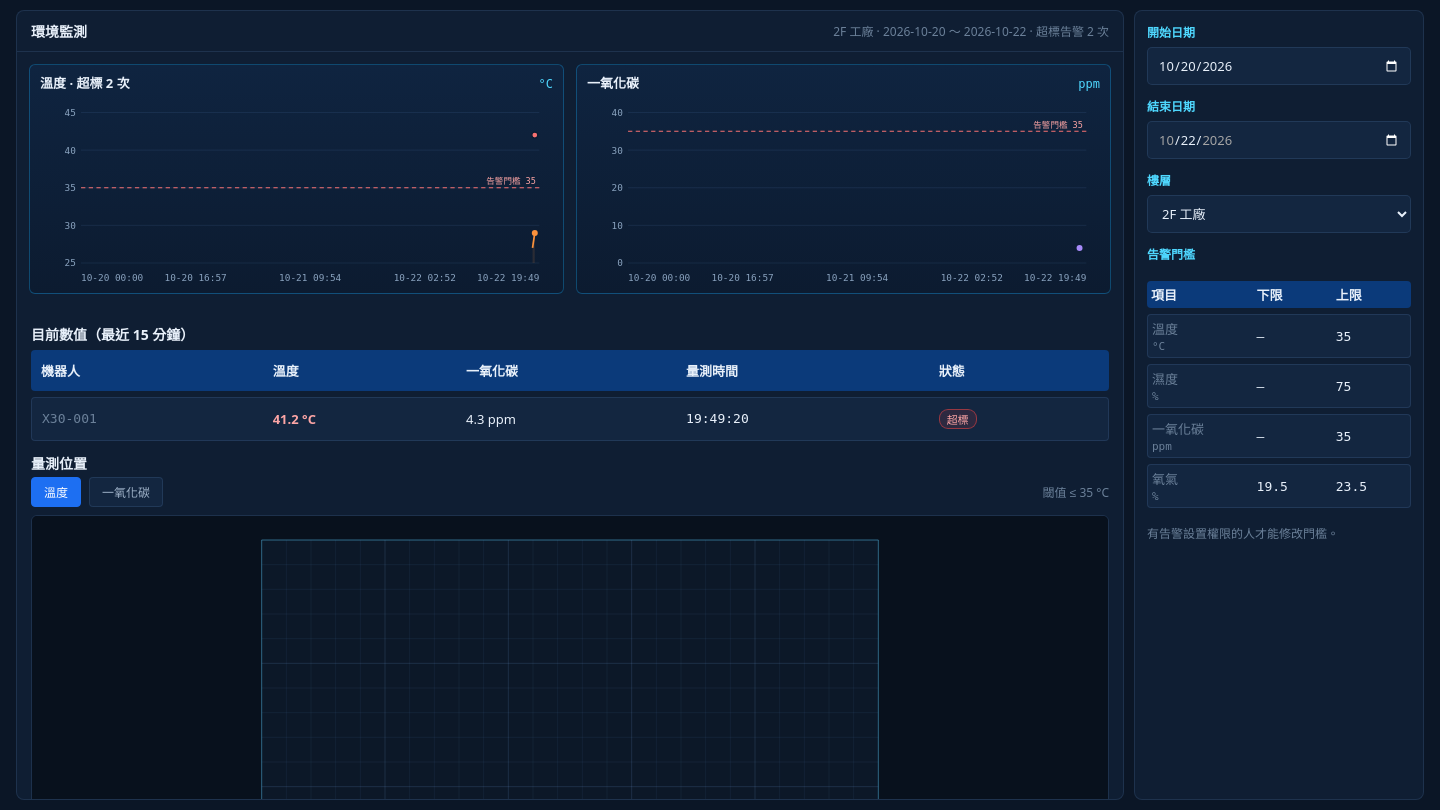
Test case: 環境監測（T-41） › 超過 31 天不查詢
Expected: the text "X30-001" is shown, [31,397,263,441]
Step 1. Type "2026-01-01" into the date field labelled "開始日期" → (1279, 66), box [1147,47,1411,85]
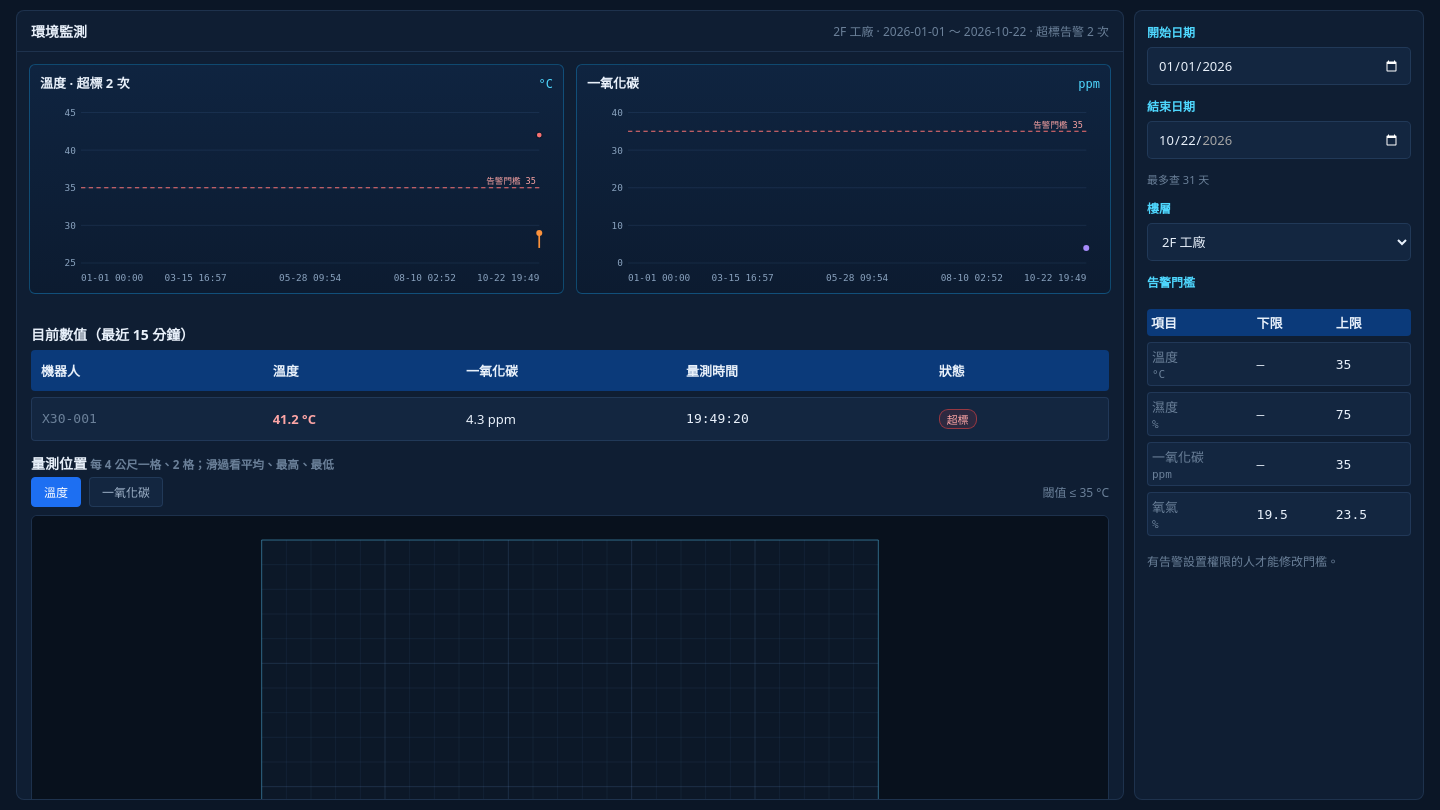
Expected: the text "最多查 31 天" is shown, [1147,172,1209,187]
